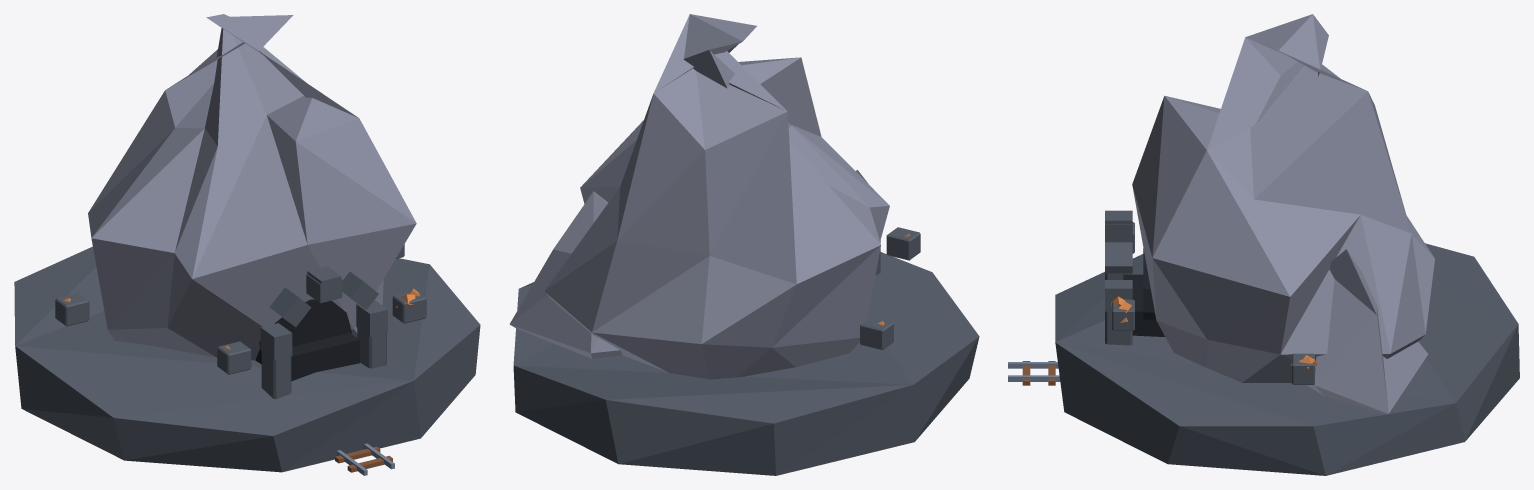
Rendered from SM_Mountain_Copper.fbx.
3 views of the same model, side by side, from view 1: azimuth 30°, elevation 25°; view 2: azimuth 150°, elevation 25°; view 3: azimuth 270°, elevation 25° (orthographic).
Parts seen in each view (by area): view 1: SM_Mountain_Copper; view 2: SM_Mountain_Copper; view 3: SM_Mountain_Copper.
Part boxes in pixels (x1,y1,x2,y2): SM_Mountain_Copper: (14,14,480,475); SM_Mountain_Copper: (509,14,979,475); SM_Mountain_Copper: (1008,14,1519,475).
Bounding box in the file's own units: 10.16 × 8.45 × 11.09.
